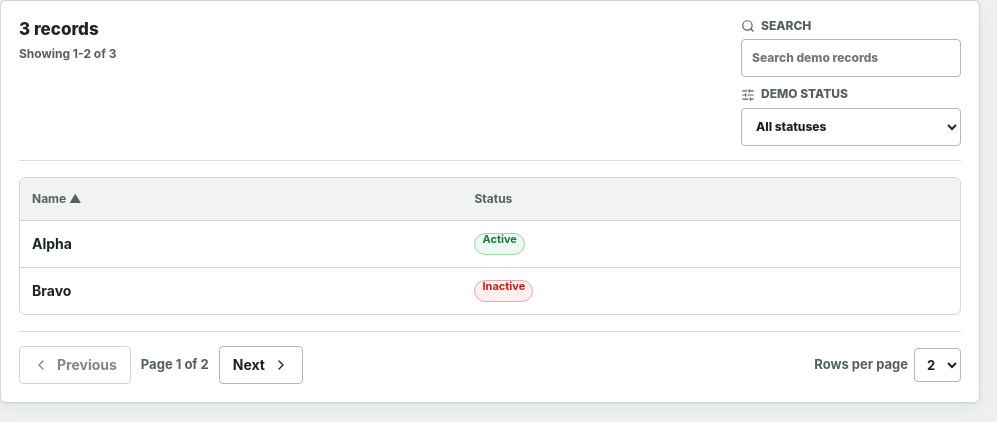
RegisterTable › sorts records and updates aria-sort
Click the button with aria-label "Sort by Name descending" at (57, 199), box 32,190 -> 82,208
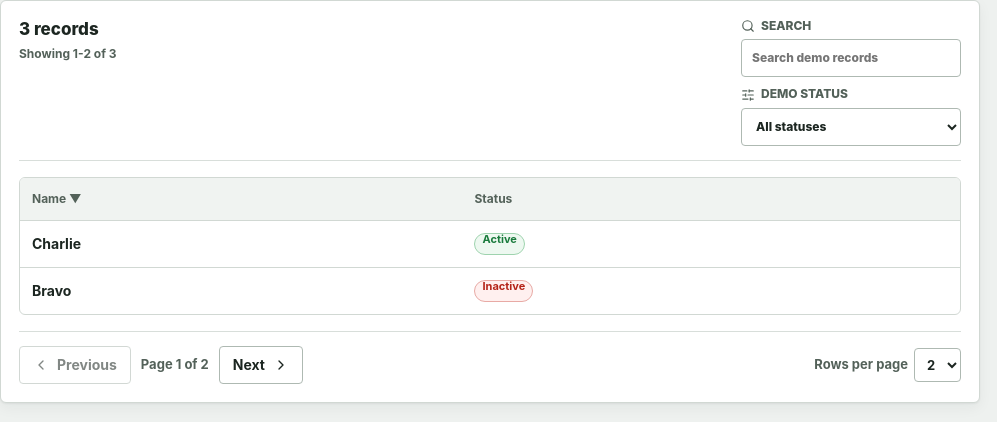
Check: the text "Charlie" is shown, box 32,235 -> 81,252
